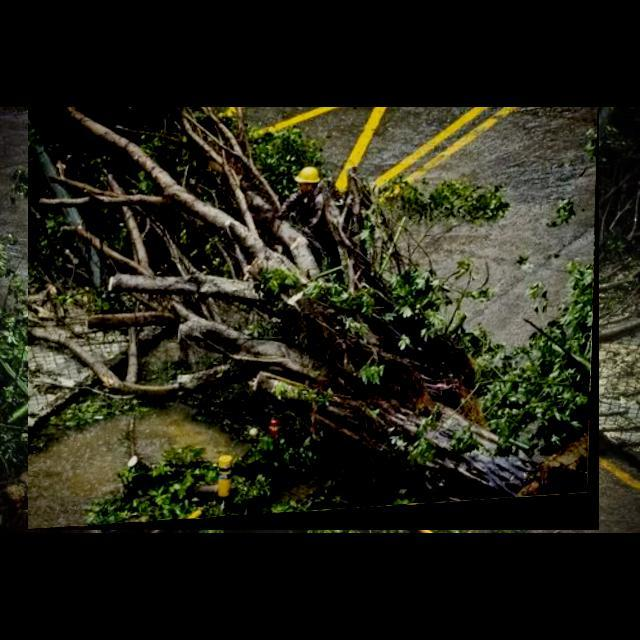fallen_tree: (28, 107, 600, 531)
